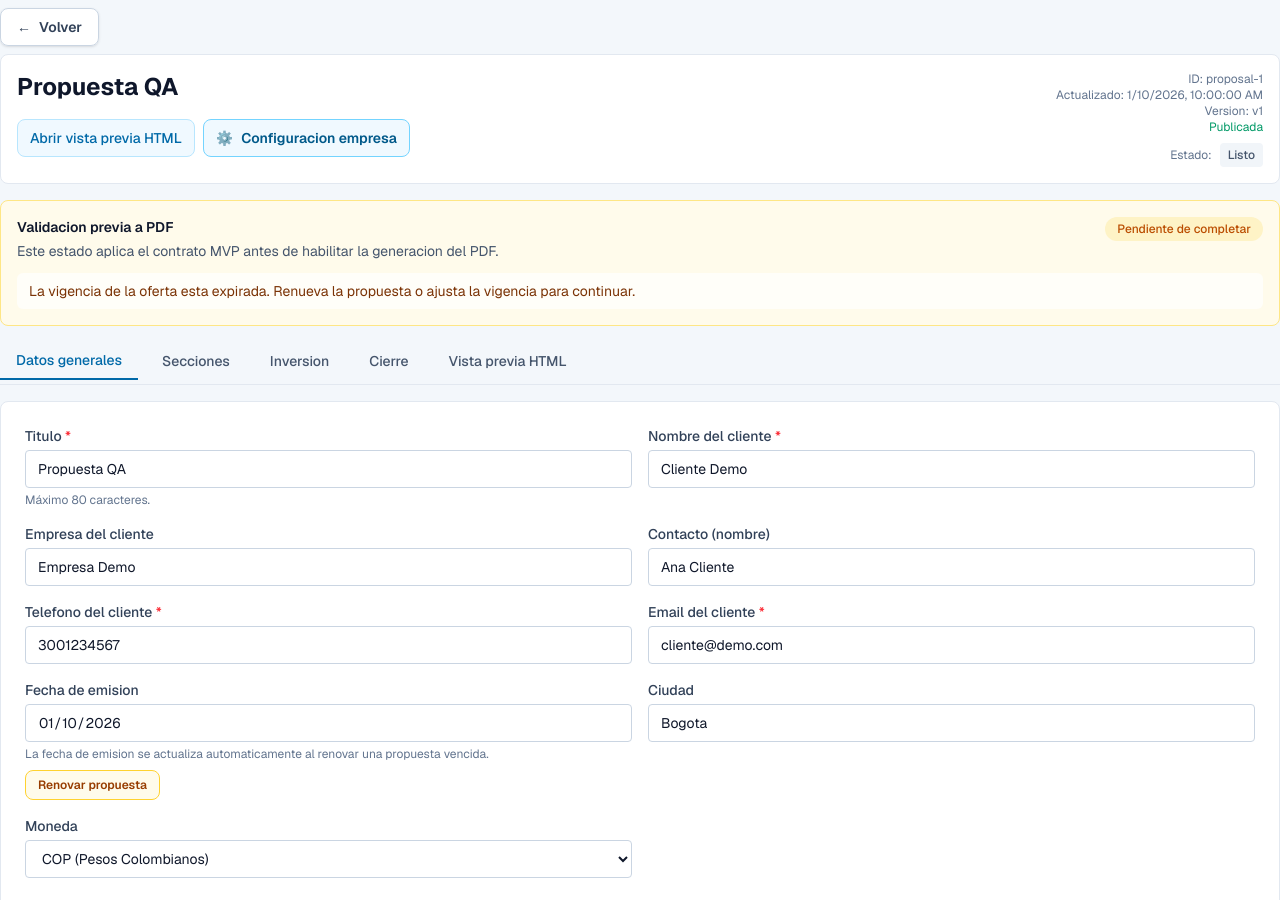
ProposalEditor › edits a section from list
expect the heading "Propuesta QA" is shown: met, box [17,71,178,102]
Click the button "Secciones" at (196, 361), box [146,342,246,380]
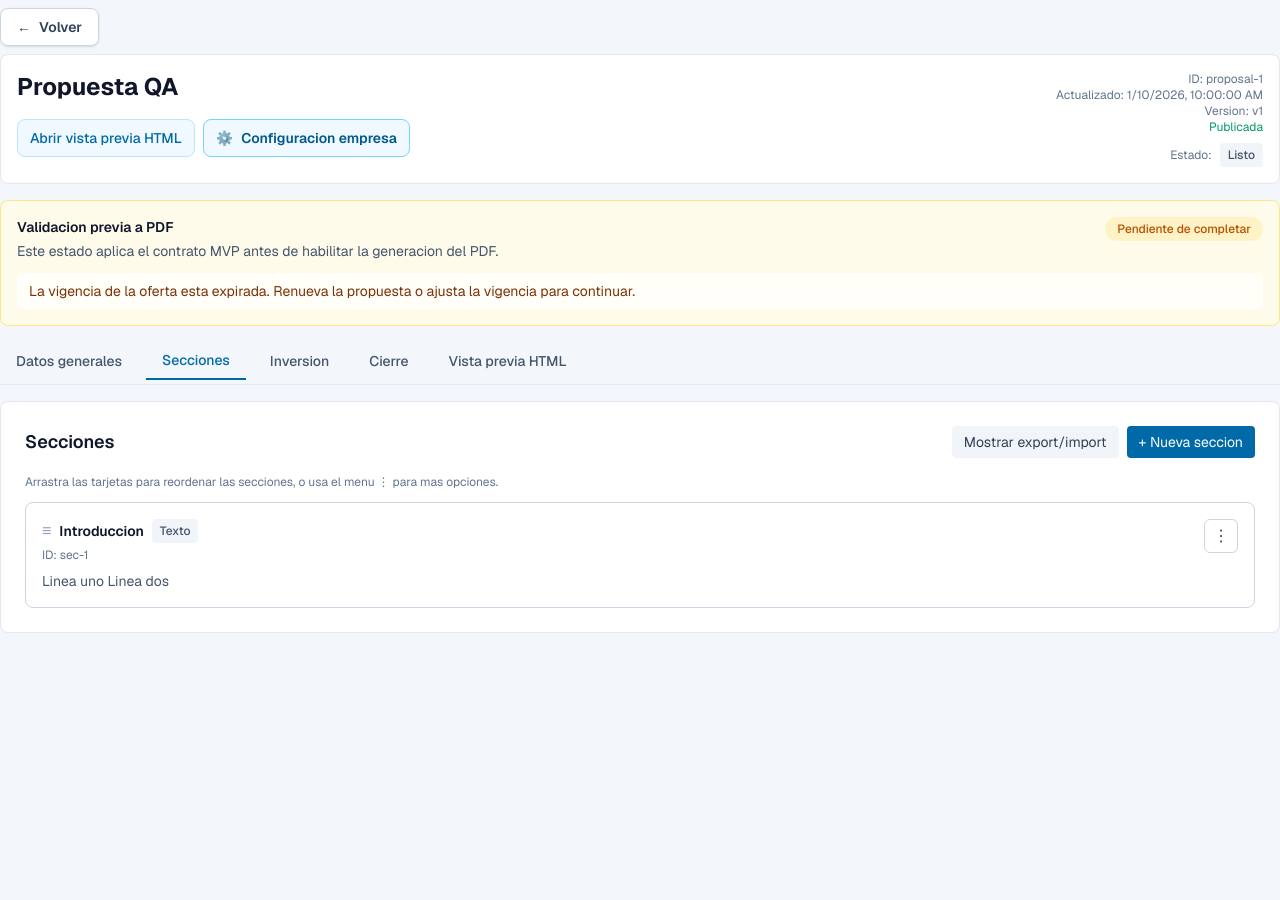
Click the button titled "Acciones" at (1221, 536), box [1204,519,1238,553]
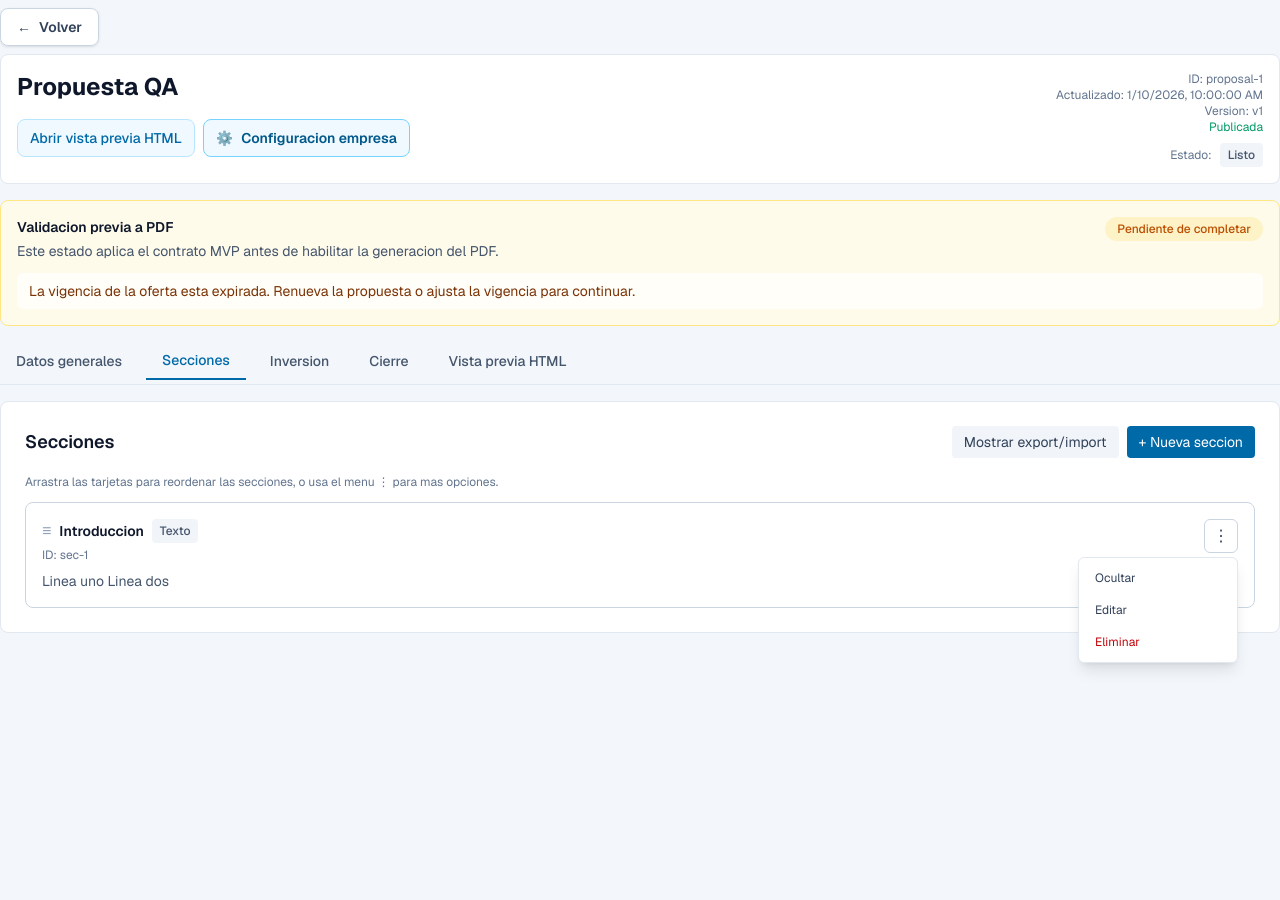
Click the button "Editar" at (1158, 610), box [1083,594,1233,626]
(page scrolled)
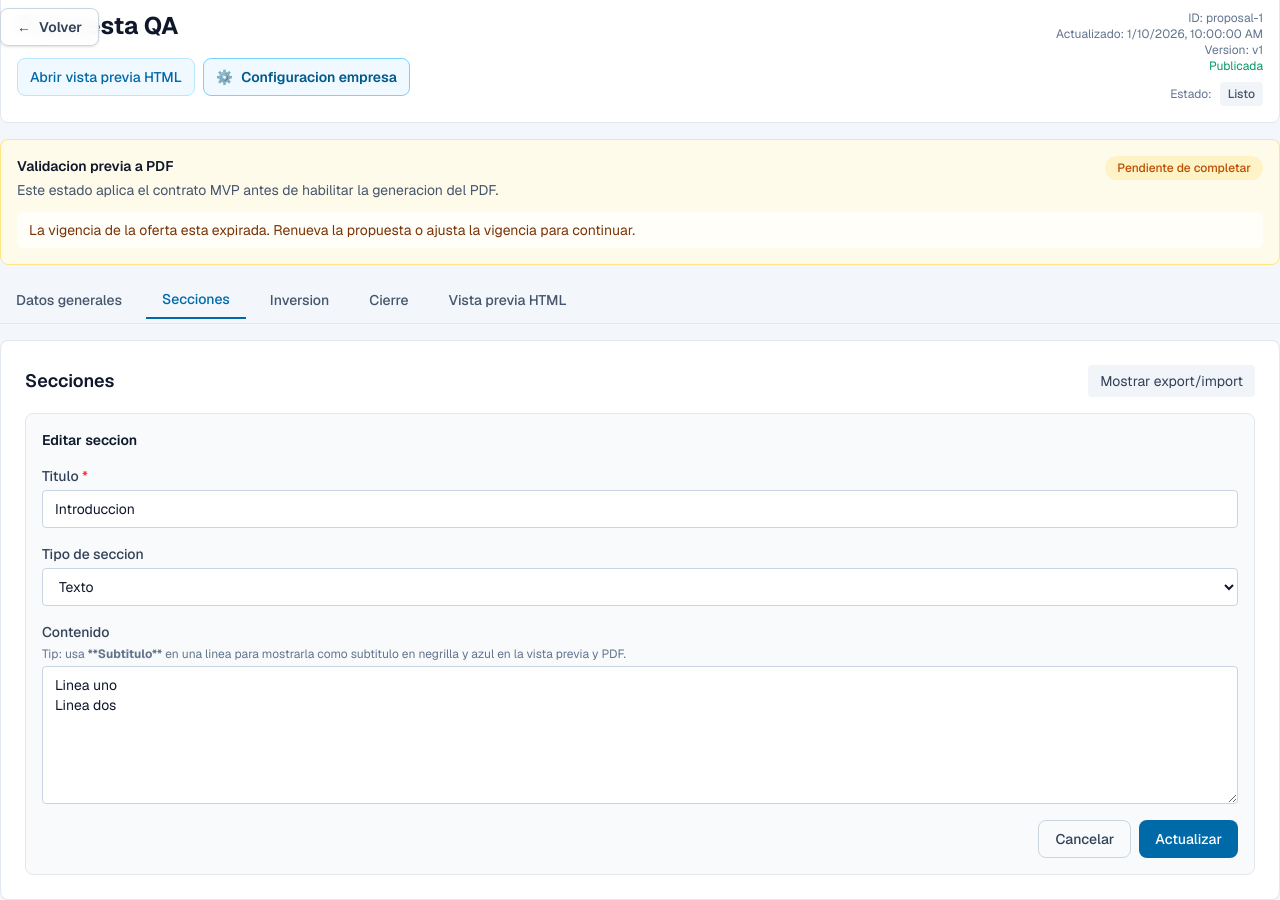
expect the button "Actualizar" is shown: met, box [1139,820,1238,858]
